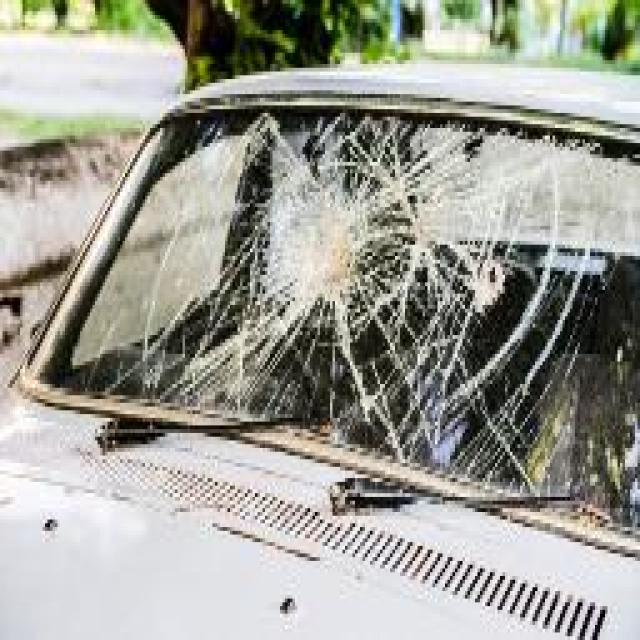Windshield: (35, 79, 640, 535)
